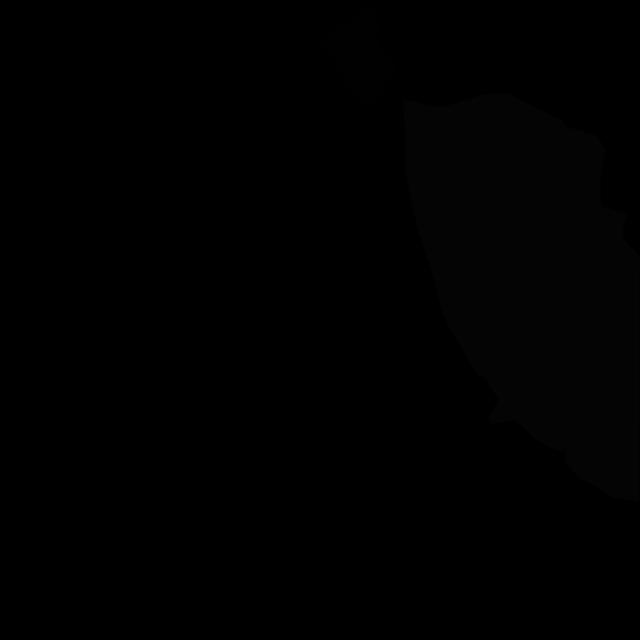rigid_plastic: (319, 7, 397, 108)
soft_plastic: (403, 93, 640, 502)
